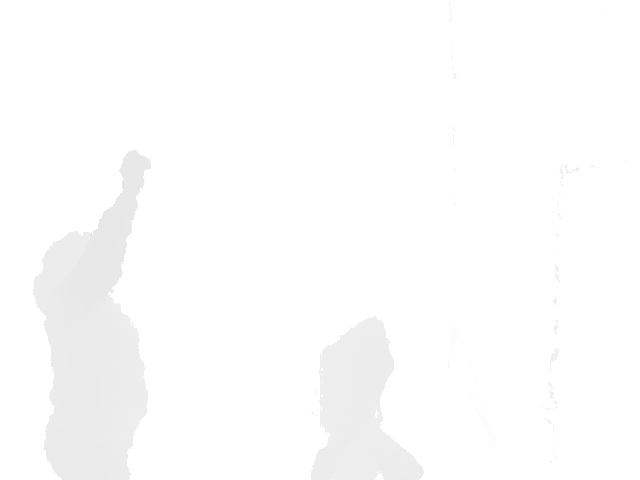hand: (118, 150, 153, 195)
head: (319, 317, 389, 441), (44, 232, 110, 300)
person: (32, 150, 150, 479), (309, 317, 425, 480)
